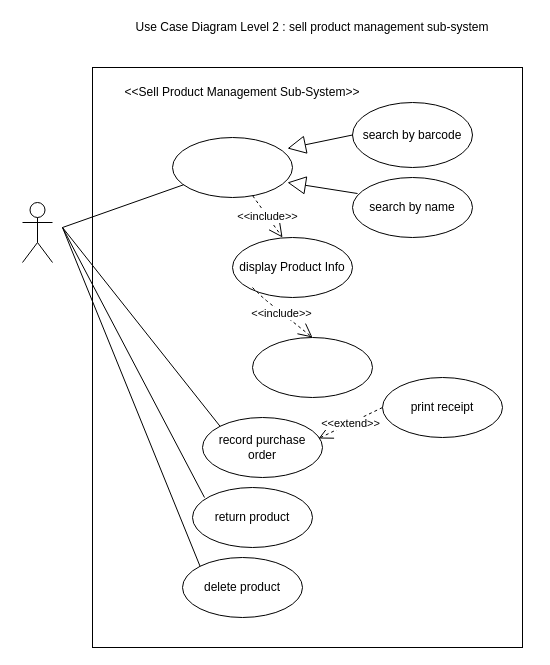
Some shapes in this 550 by 665 pixel diagram are drawn without their labels. Each missing label, with the centre of its shape:
"calculate amount" goes at [312,367].
"Cashier" goes at [37,232].
"search Product" goes at [232,167].
